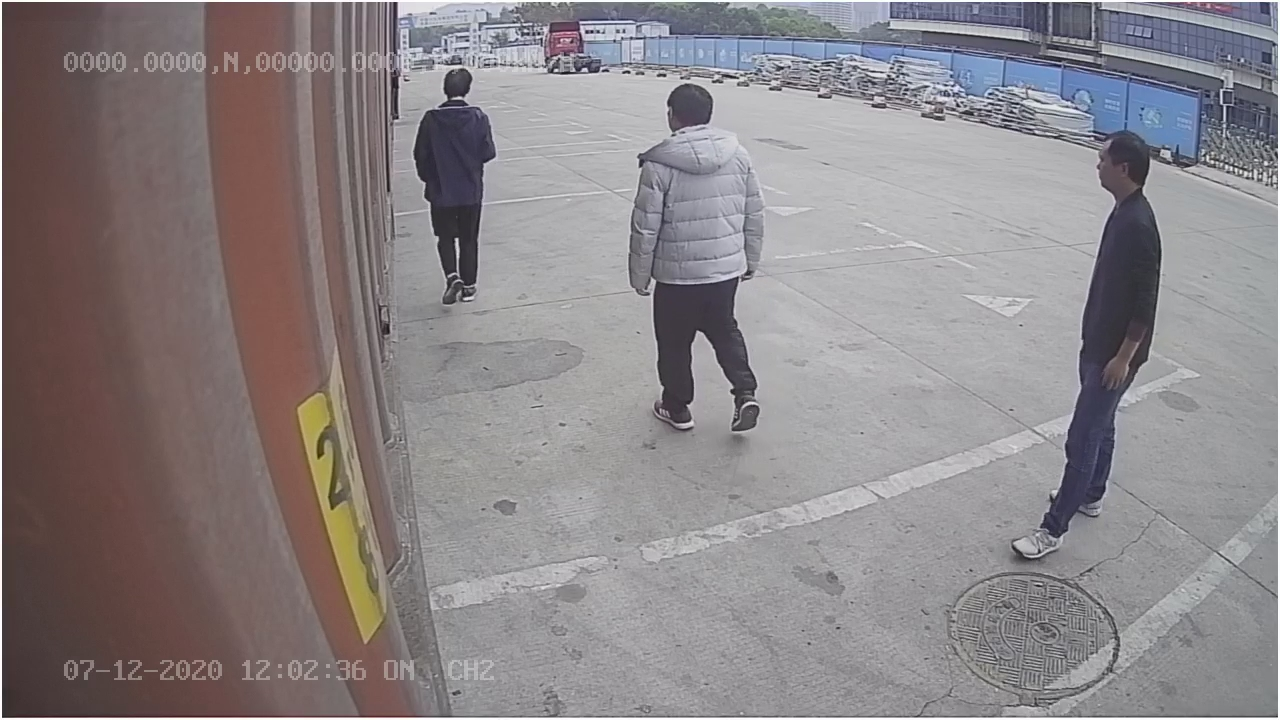person: (1012, 126, 1163, 563), (626, 81, 771, 438), (412, 65, 497, 313)
